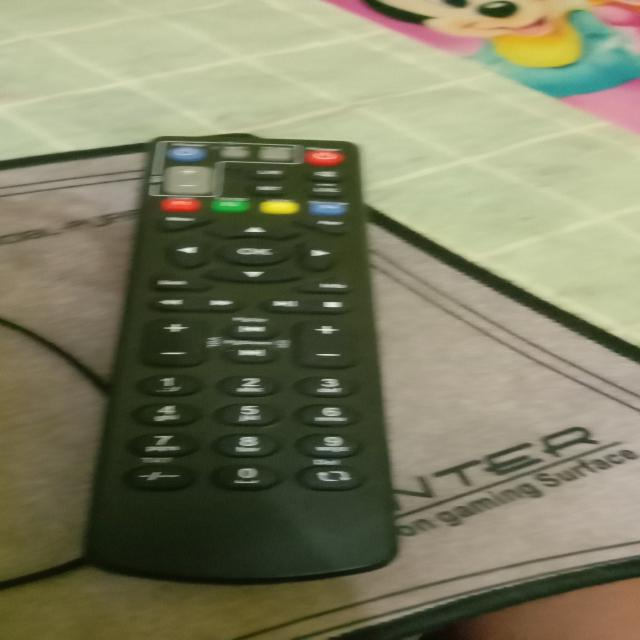remote: (69, 135, 393, 580)
